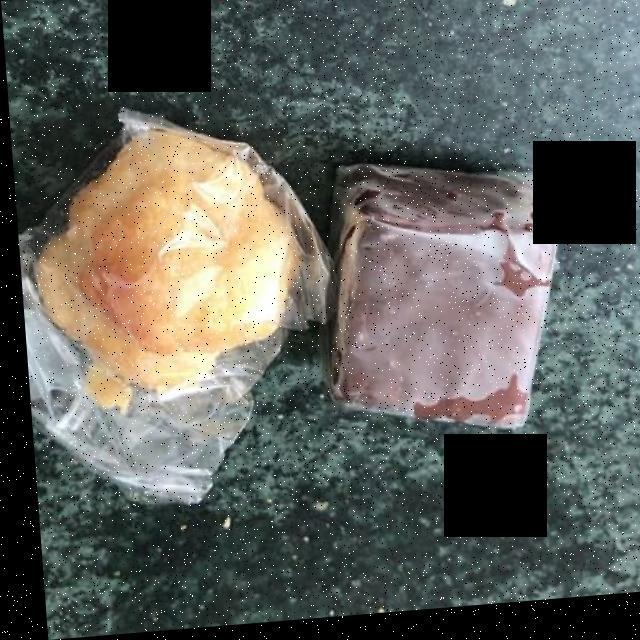brownie: (314, 167, 573, 443)
